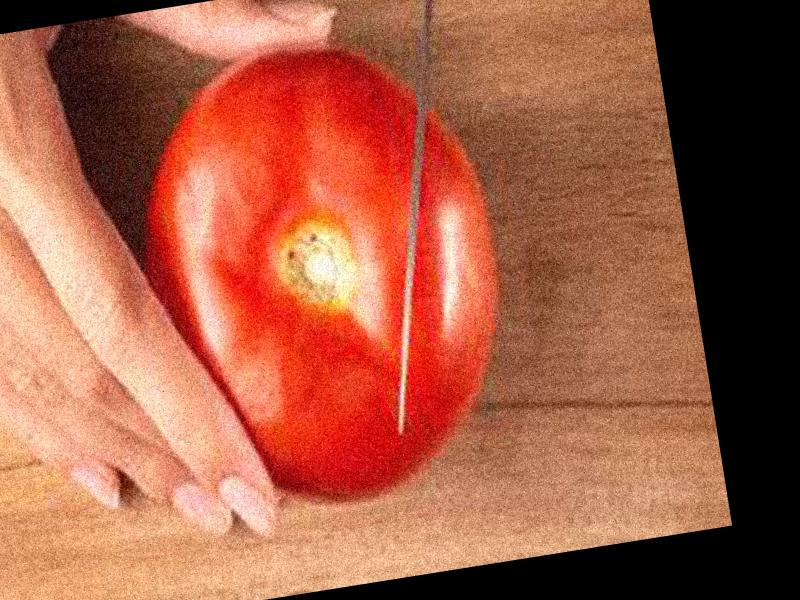Tomato: (113, 27, 521, 525)
